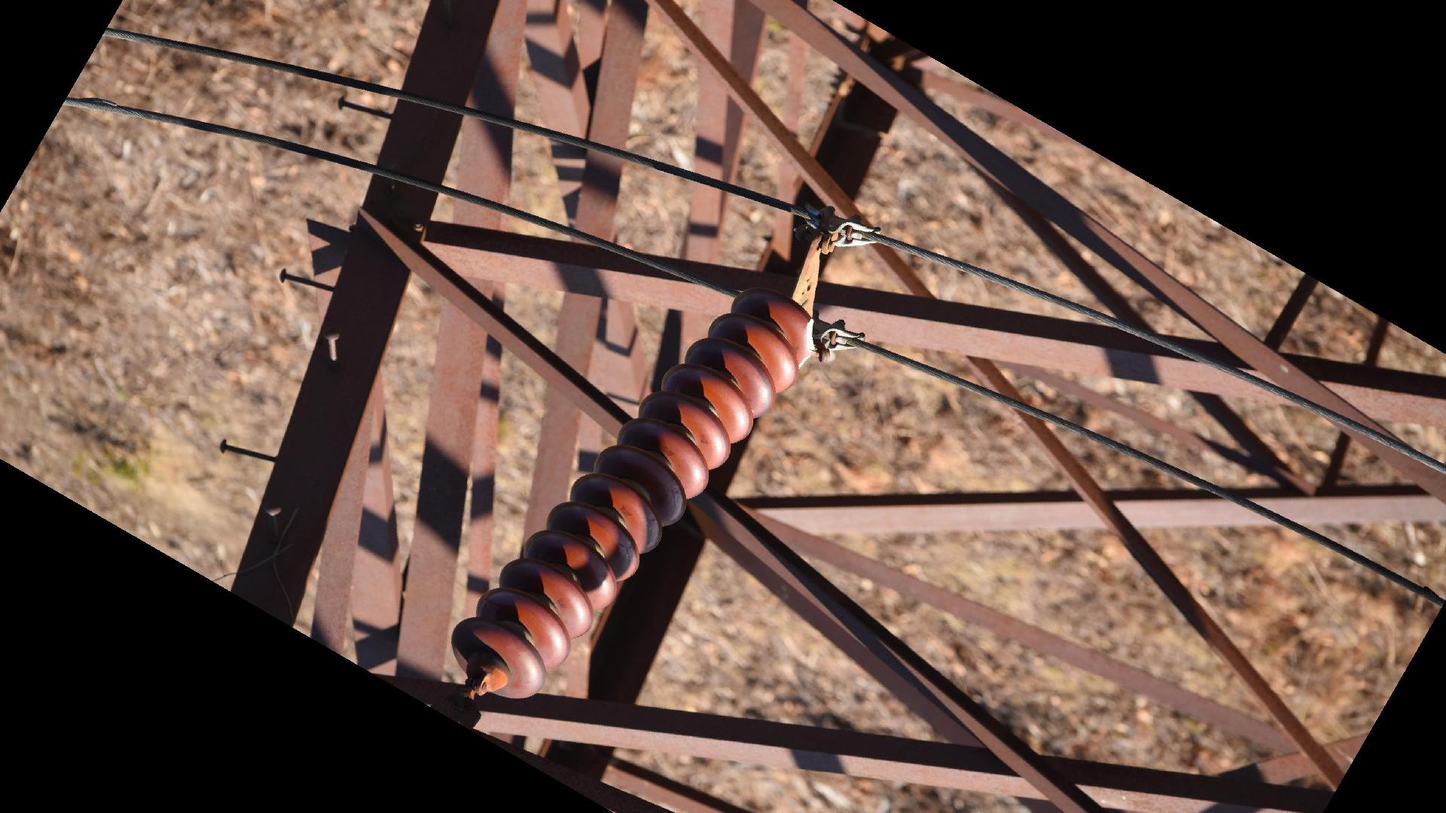insulator: (441, 285, 825, 707)
insulator_breakage: (797, 315, 821, 370)
